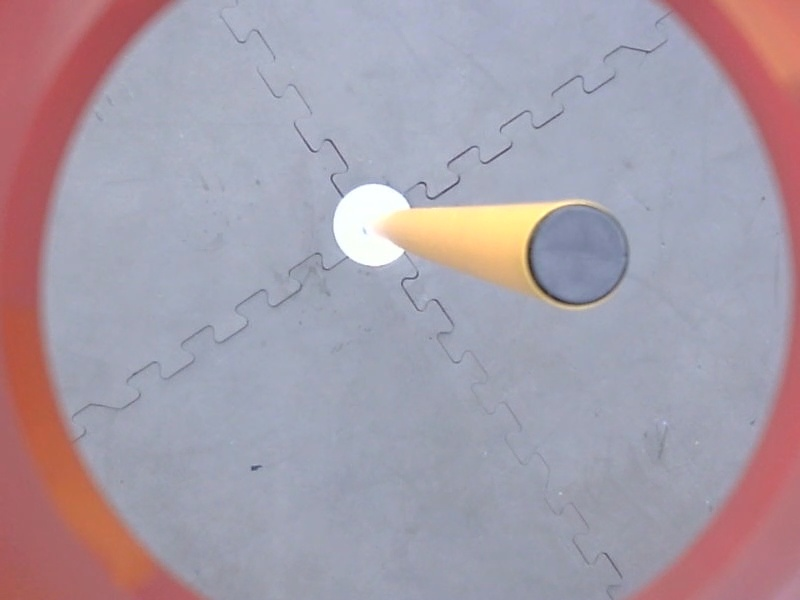tip: (521, 197, 637, 316)
